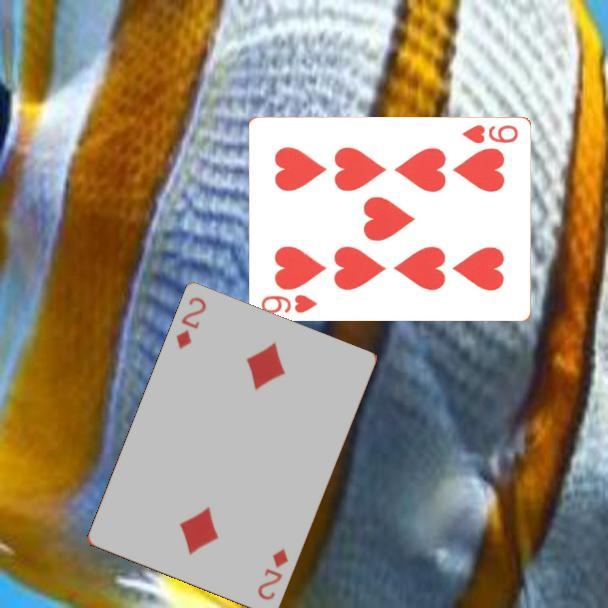d02: (254, 545, 291, 604), (173, 294, 209, 352)
h09: (257, 291, 320, 316), (458, 122, 521, 147)
